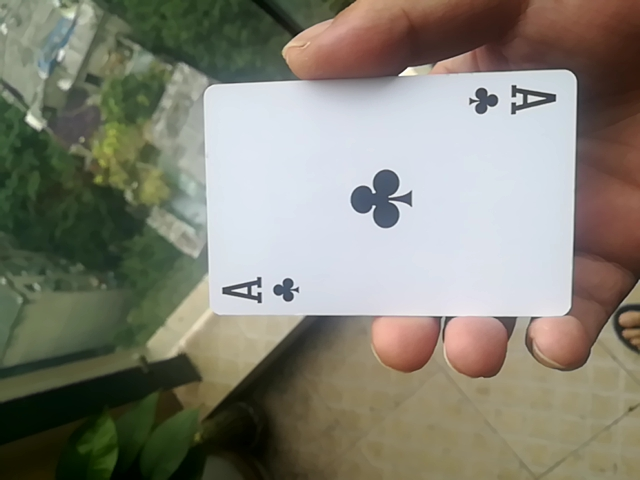mh a: (202, 64, 582, 323)
